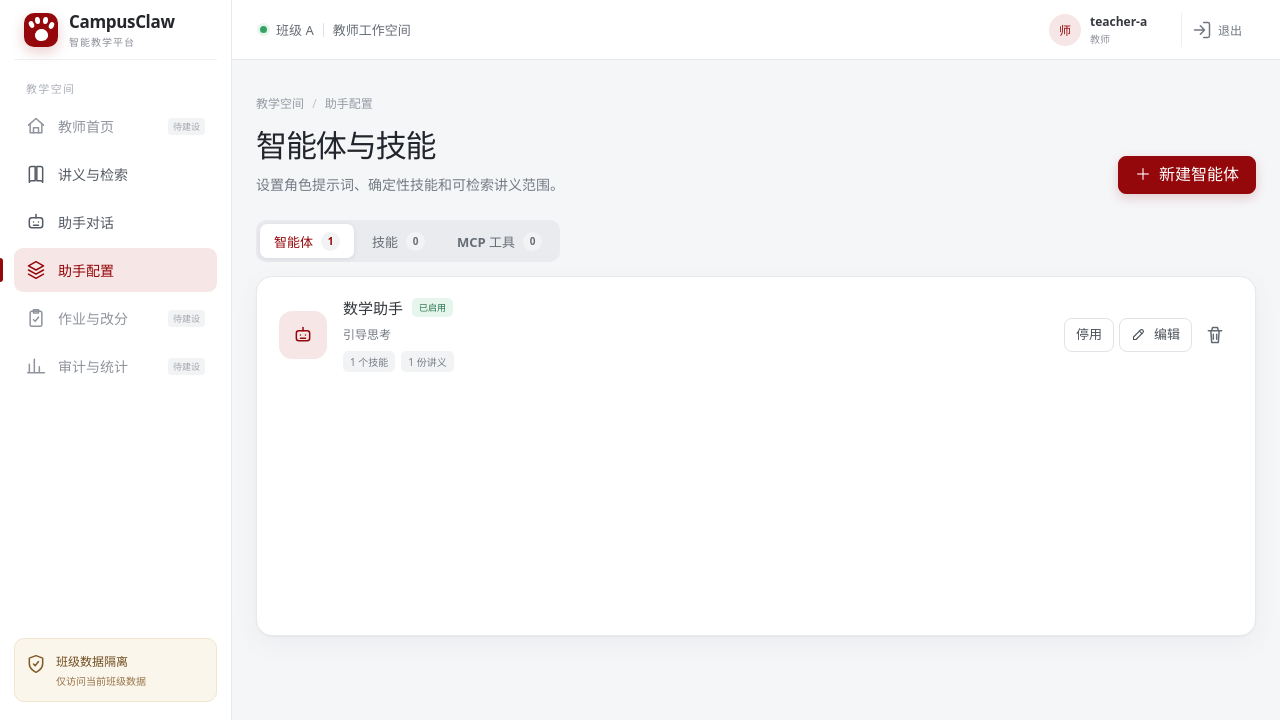
Test: AgentConfigView › toggles an assistant from the list with its complete configuration
Click the button "停用": click(1089, 335) 1064,318 -> 1114,352
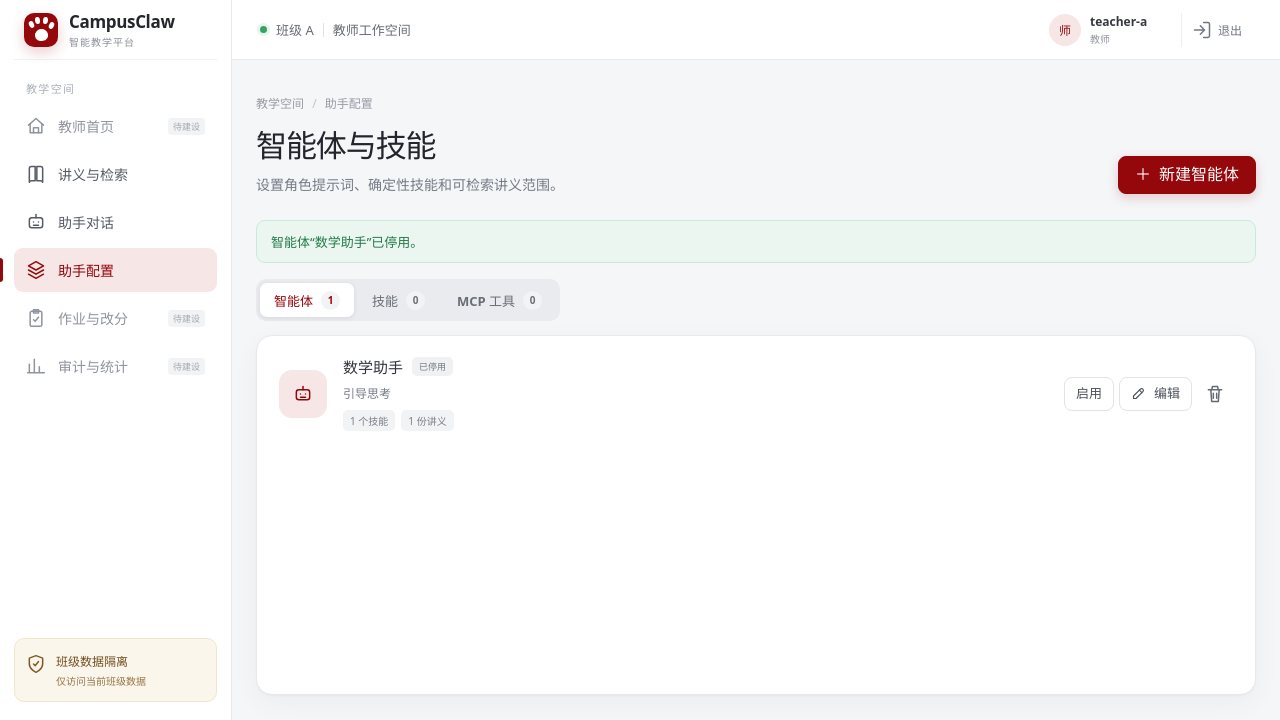
Expected: the text "智能体“数学助手”已停用" is shown, 271,233 -> 423,251
